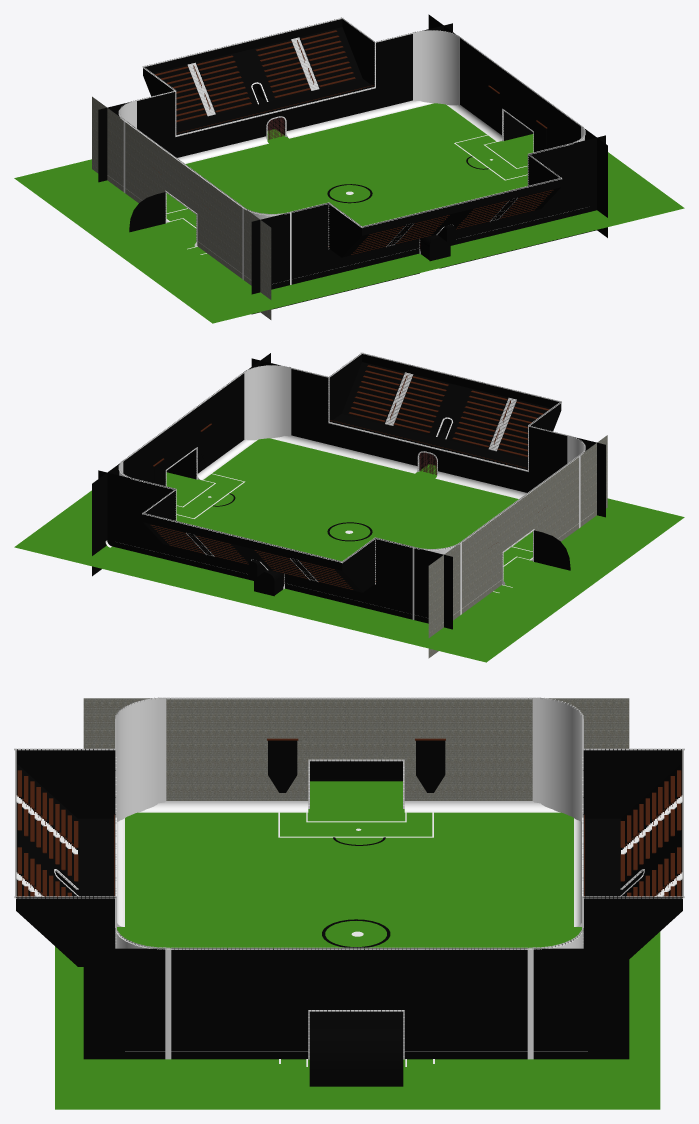
Rendered from Map44FullTex2.FBX.
3 views of the same model, one above another, from view 1: azimuth 30°, elevation 25°; view 2: azimuth 150°, elevation 25°; view 3: azimuth 270°, elevation 25° (orthographic). The views are drawn at different scales.
Visible parts, largest first — view 1: Stands, Ground, Goal; view 2: Stands, Ground, Goal; view 3: Goal, Ground, Stands, FlagRed02, FlagRed01.
Part boxes in pixels (bbox=[...]): Stands: bbox=[98, 17, 605, 314]; Ground: bbox=[14, 103, 684, 323]; Goal: bbox=[92, 14, 607, 319]; Stands: bbox=[98, 352, 605, 629]; Ground: bbox=[14, 438, 684, 662]; Goal: bbox=[92, 353, 607, 658]; Goal: bbox=[83, 697, 629, 1086]; Ground: bbox=[55, 781, 660, 1109]; Stands: bbox=[14, 697, 684, 1059]; FlagRed02: bbox=[267, 738, 298, 792]; FlagRed01: bbox=[415, 738, 445, 792].
Size of the model in its own units: 533 by 101 by 430.
9 materials, 1 textured.
